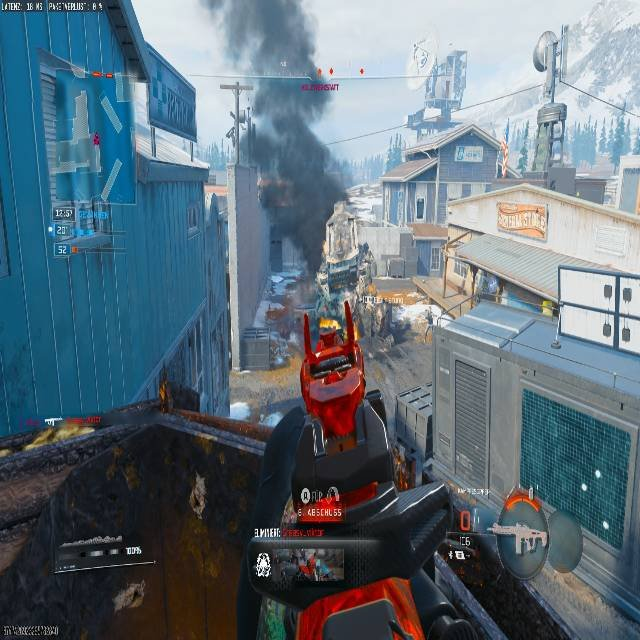head: (357, 239, 371, 255)
player: (422, 309, 435, 343)
